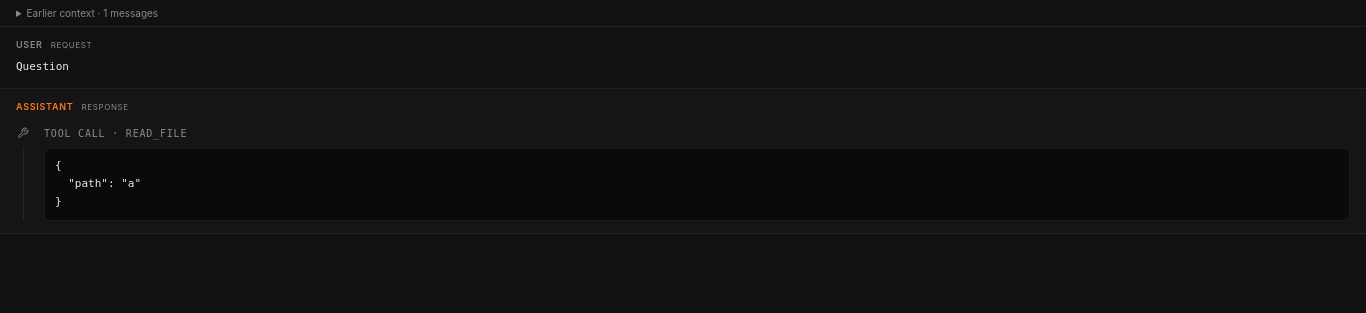
transcript renders current messages, tools and expandable prior context
Expected: the text "Question" is shown, [16,60,69,73]
Expected: the text "Tool call · read_file" is shown, [44,128,187,139]
Click the heading "Earlier context · 1 messages".
click(65, 13)  # box [0,0,1365,27]
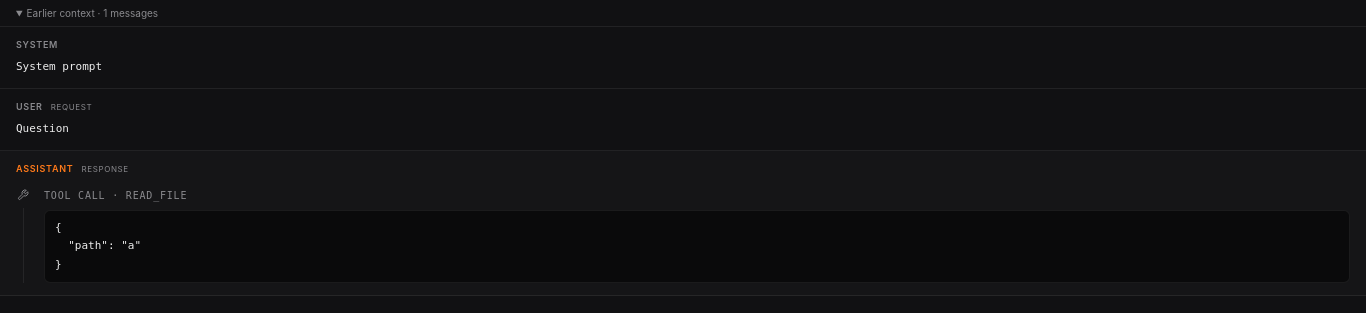
Expected: the text "System prompt" is shown, [16,60,102,73]
